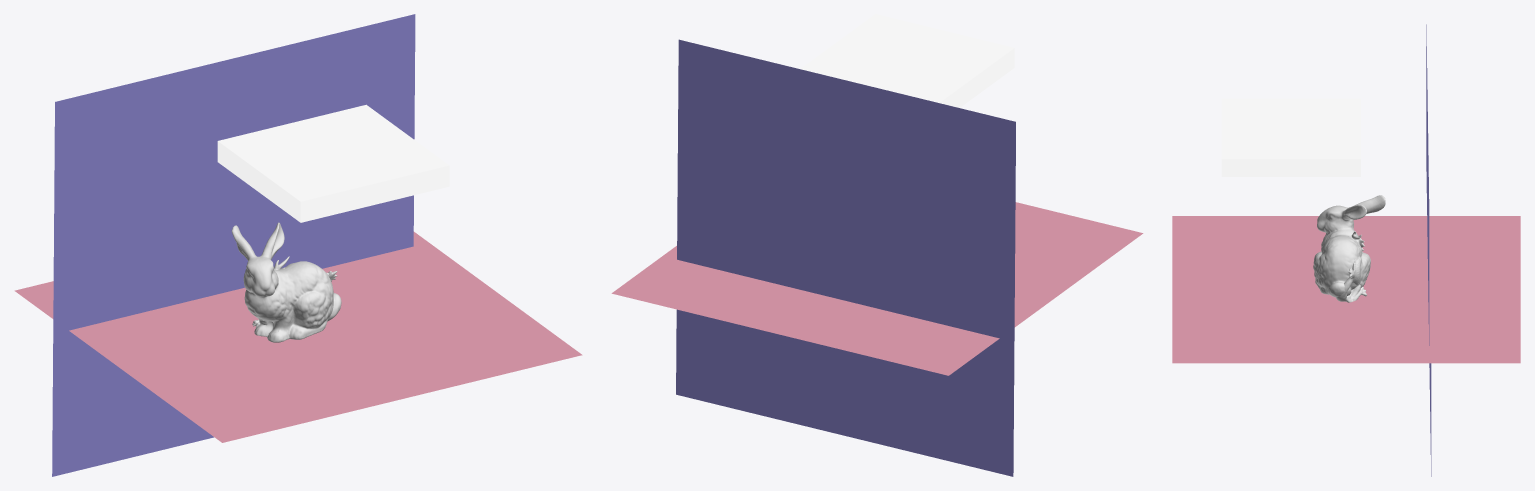
Rendered from pathtracer_demo_scene.gltf.
3 views of the same model, side by side, from view 1: azimuth 30°, elevation 25°; view 2: azimuth 150°, elevation 25°; view 3: azimuth 270°, elevation 25° (orthographic). The views are drawn at different scales.
Visible parts, largest first — view 1: Plane.002, Plane.001, Cube.002, bun_zipper; view 2: Plane.002, Plane.001, Cube.002; view 3: Plane.001, Cube.002, bun_zipper, Plane.002, dragon_vrip_res3.
Boxes of the visible parts, <box> form: Plane.002: <box>52,14,415,476</box>; Plane.001: <box>14,231,582,442</box>; Cube.002: <box>217,104,449,222</box>; bun_zipper: <box>231,222,341,342</box>; Plane.002: <box>676,39,1015,476</box>; Plane.001: <box>611,202,1143,375</box>; Cube.002: <box>800,14,1014,107</box>; Plane.001: <box>1172,216,1520,363</box>; Cube.002: <box>1221,98,1360,176</box>; bun_zipper: <box>1313,195,1385,297</box>; Plane.002: <box>1426,24,1431,476</box>; dragon_vrip_res3: <box>1336,231,1366,302</box>.
Bounding box in the file's own units: 25.67 × 24.6 × 24.61.
